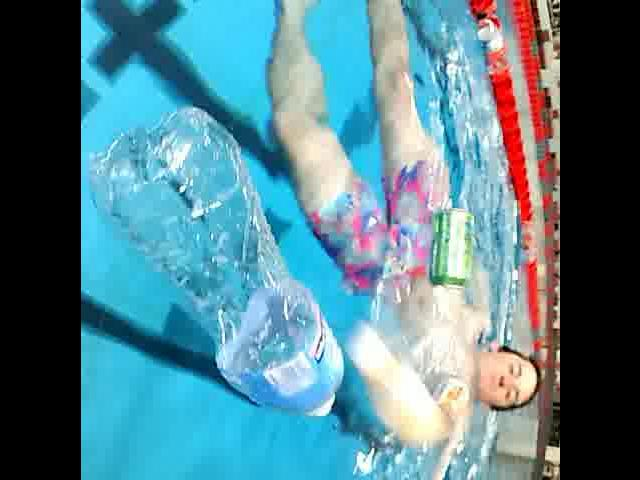Bottle: (81, 105, 351, 427)
Can: (422, 197, 479, 294)
